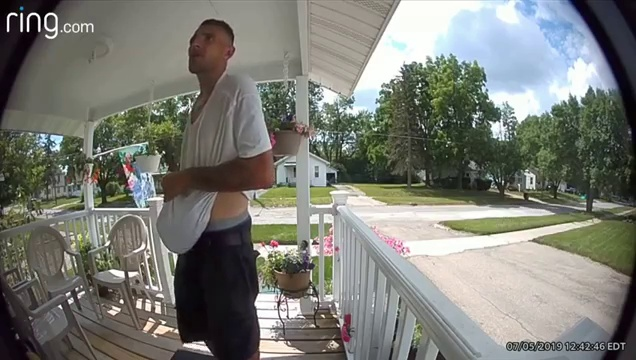face: (188, 30, 221, 70)
